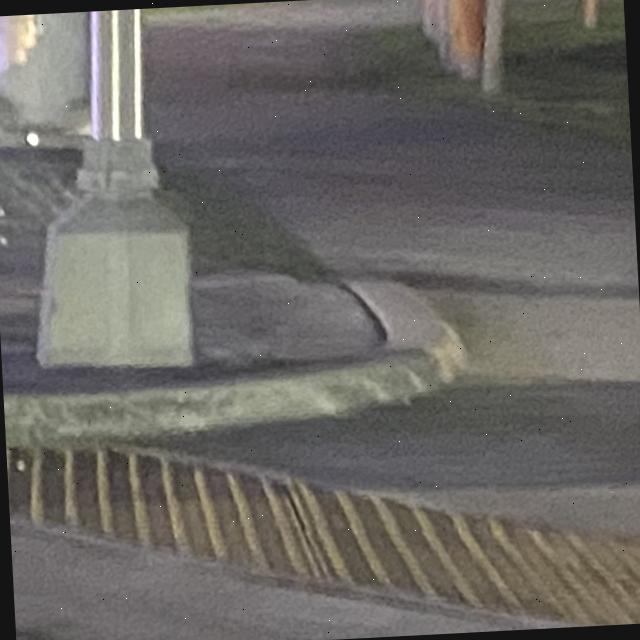curb: (6, 328, 464, 446), (347, 280, 466, 368)
